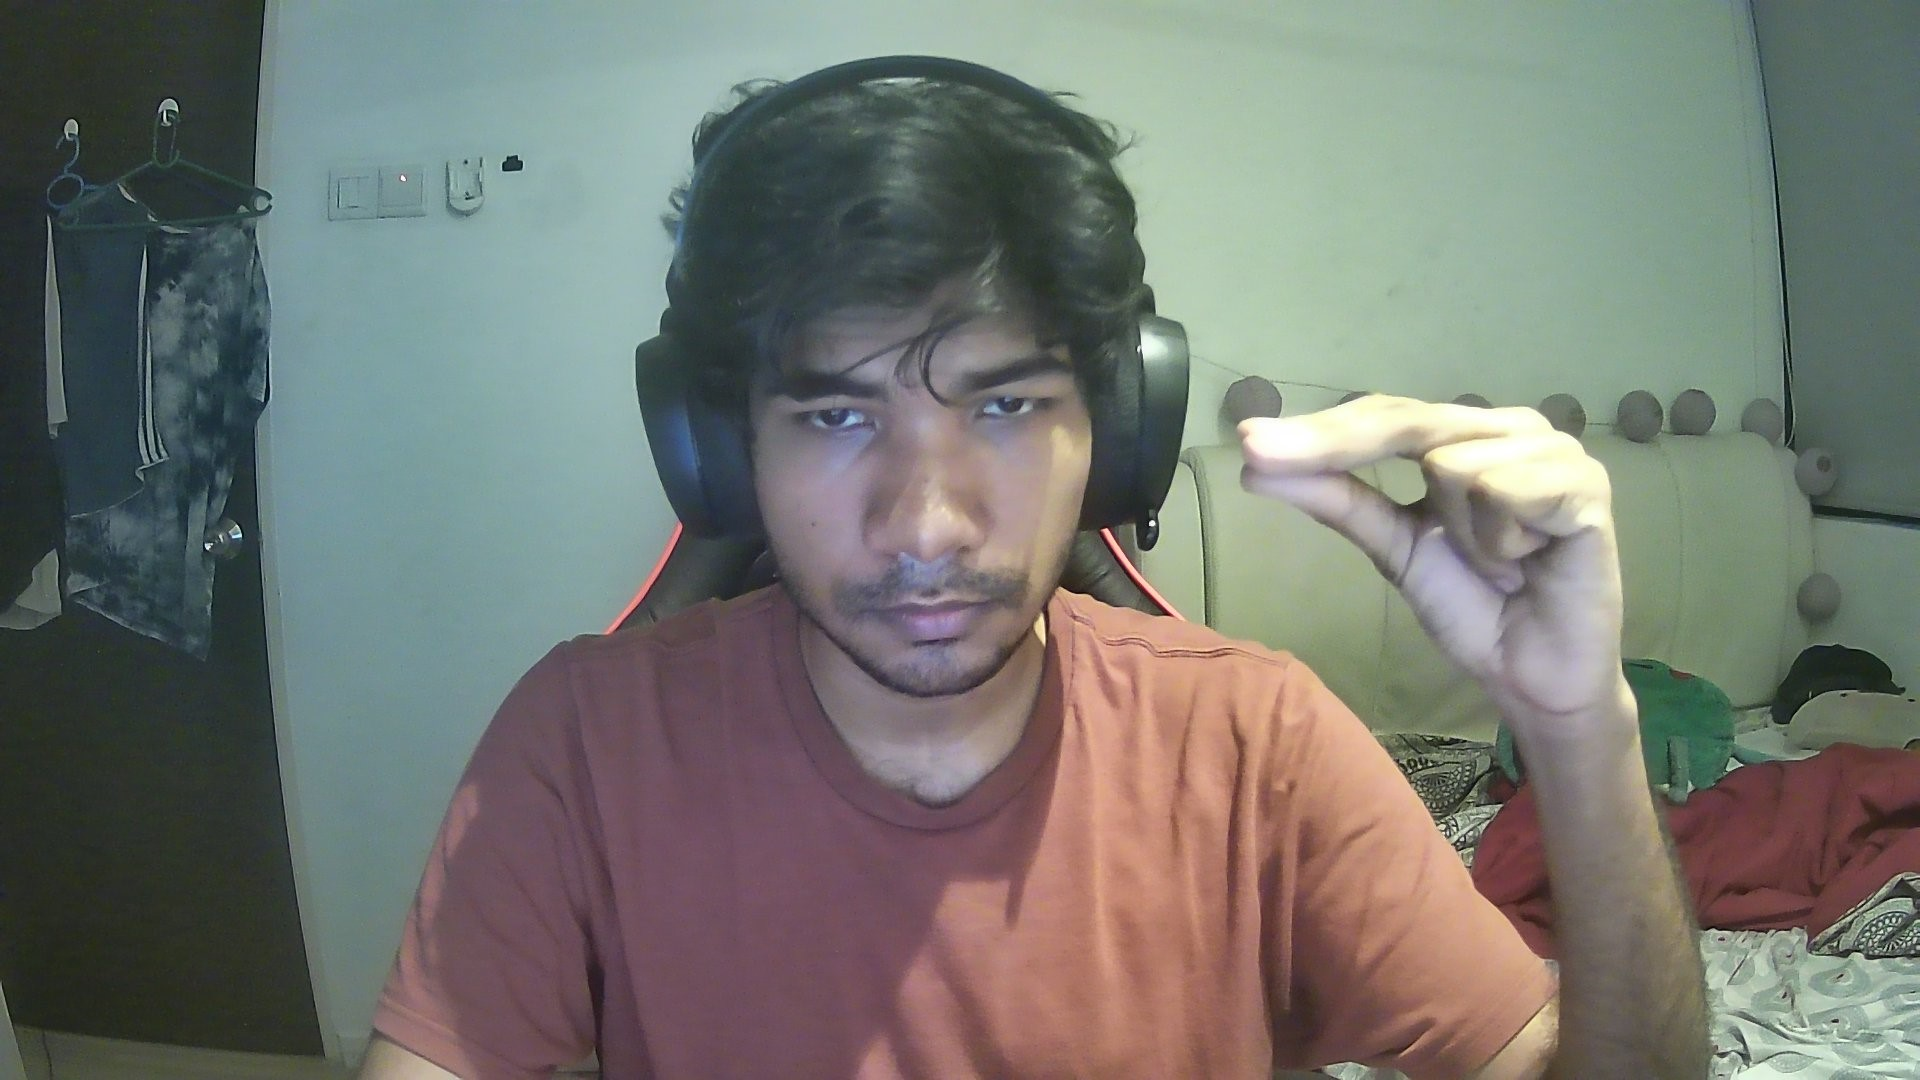No: (1232, 376, 1650, 738)
